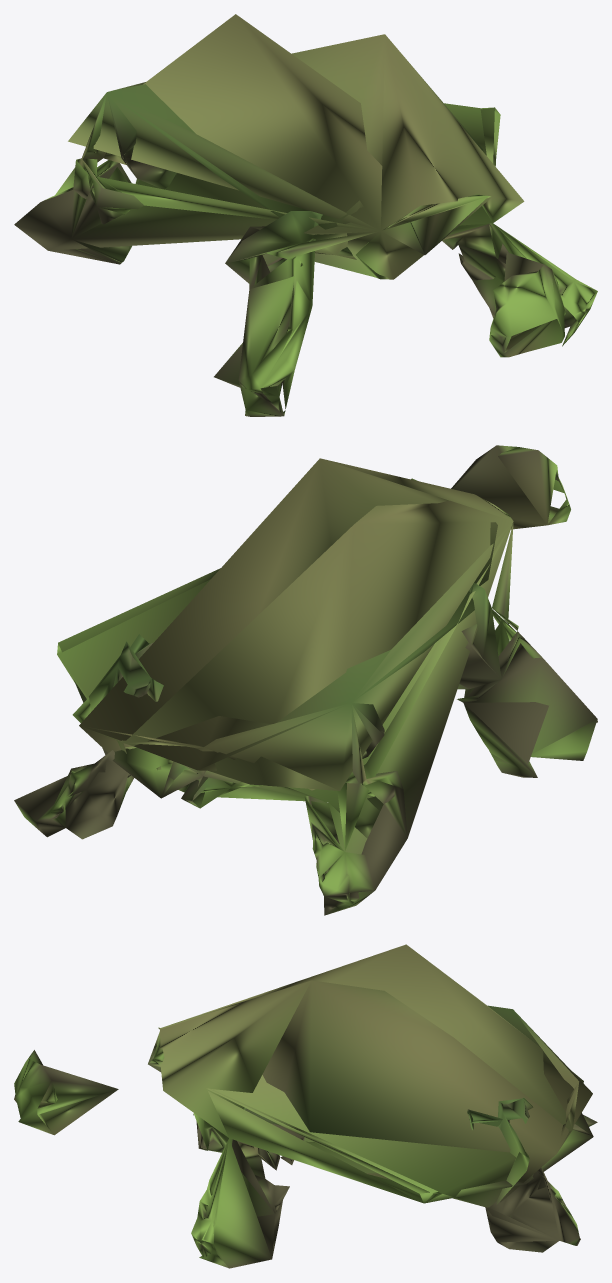
Rendered from gen3d-tortoise-lod1.glb.
3 renders of one model, top to bottom at view 1: azimuth 30°, elevation 25°; view 2: azimuth 150°, elevation 25°; view 3: azimuth 270°, elevation 25°, orthographic. The views are drawn at different scales.
Visible parts, largest first — view 1: part_0; view 2: part_0; view 3: part_0.
Boxes of the visible parts, <box> form: part_0: <box>14,14,597,416</box>; part_0: <box>14,445,597,915</box>; part_0: <box>14,944,597,1268</box>.
Size of the model in its own units: 1.42 by 0.9999 by 2.23.
